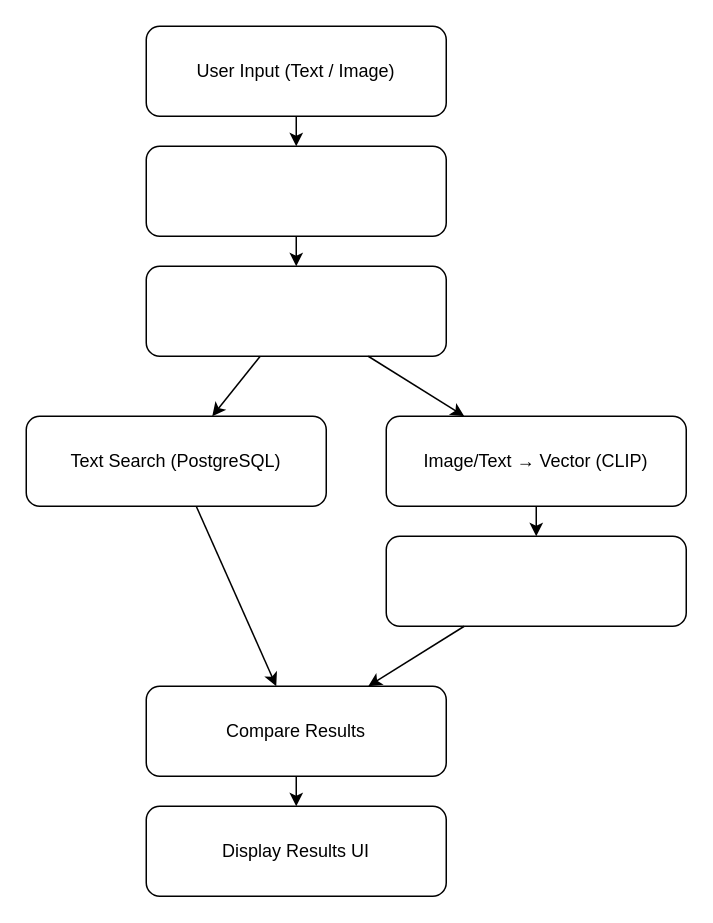
Some shapes in this 713 by 923 pixel diagram are drawn without their labels. Each missing label, with the centre of its shape:
Backend API (Python): (295,310)
Frontend (React UI): (295,190)
Qdrant Vector DB: (535,580)
